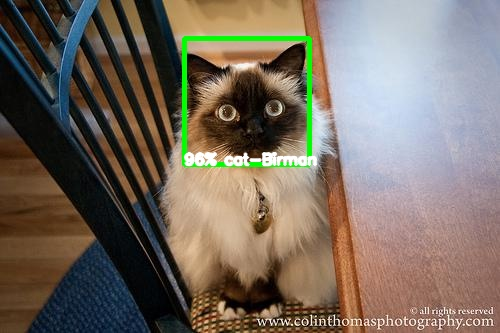cat-Birman: (183, 43, 305, 164)
